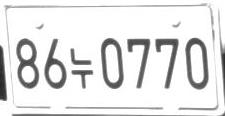0: (184, 36, 209, 90), (99, 37, 124, 90)
6: (43, 38, 67, 90)
7: (154, 38, 180, 89), (126, 38, 151, 88)
8: (15, 37, 39, 89)
누: (69, 47, 93, 89)
